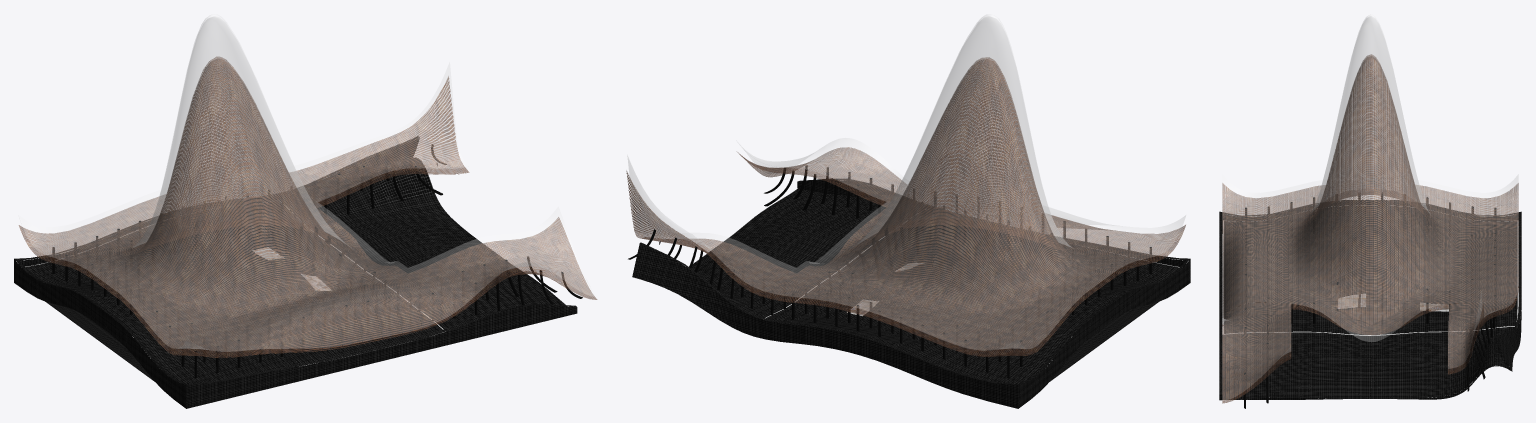
3 views of the same model, side by side, from view 1: azimuth 30°, elevation 25°; view 2: azimuth 150°, elevation 25°; view 3: azimuth 270°, elevation 25° (orthographic). The views are drawn at different scales.
Visible parts, largest first — view 1: Reflective Glass, Ceiling, 1F Floor, Ramp, EXT WALL, Colonne, Floor; view 2: Reflective Glass, Ceiling, 1F Floor, EXT WALL, Ramp, Colonne, Floor; view 3: Reflective Glass, Ceiling, 1F Floor, Ramp, Colonne, EXT WALL, Walls_Int, Ground Floor.
Boxes of the visible parts, <box> form: Reflective Glass: <box>19,14,596,351</box>; Ceiling: <box>19,56,597,357</box>; 1F Floor: <box>25,201,442,384</box>; Ramp: <box>280,157,565,331</box>; EXT WALL: <box>14,136,577,408</box>; Colonne: <box>52,144,582,378</box>; Floor: <box>46,302,154,381</box>; Reflective Glass: <box>627,14,1185,350</box>; Ceiling: <box>626,57,1185,356</box>; 1F Floor: <box>764,209,1181,384</box>; EXT WALL: <box>632,178,1190,408</box>; Ramp: <box>691,188,918,318</box>; Colonne: <box>628,165,1151,378</box>; Floor: <box>1050,302,1158,381</box>; Reflective Glass: <box>1222,14,1518,400</box>; Ceiling: <box>1222,54,1518,403</box>; 1F Floor: <box>1224,205,1517,334</box>; Ramp: <box>1222,326,1514,399</box>; Colonne: <box>1243,194,1496,408</box>; EXT WALL: <box>1219,200,1521,400</box>; Walls_Int: <box>1223,205,1518,335</box>; Ground Floor: <box>1338,298,1448,311</box>.
Size of the model in its own units: 57.66 by 40.6 by 41.59.
Materials: 10 (6 with a texture image).
